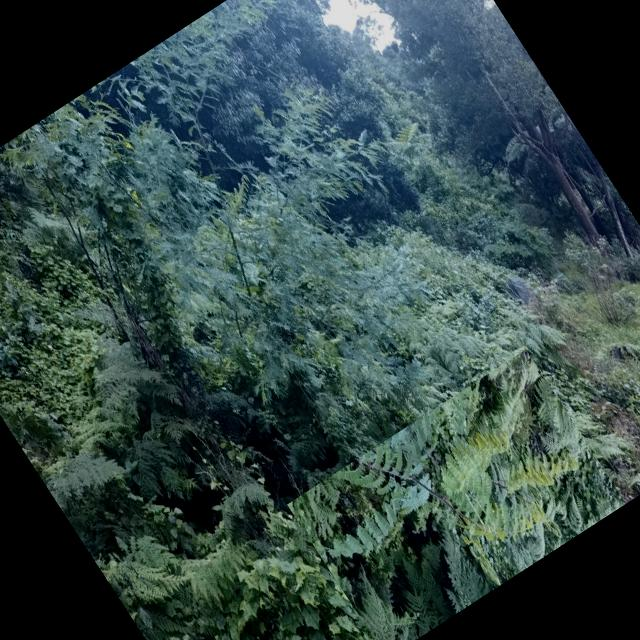Mysore-Thorn-Weed: (287, 348, 626, 640)
